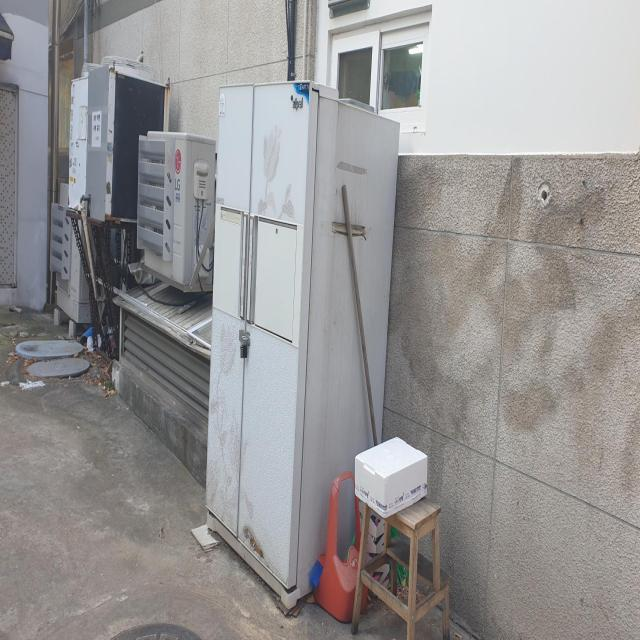refrigerator: (203, 76, 402, 611)
